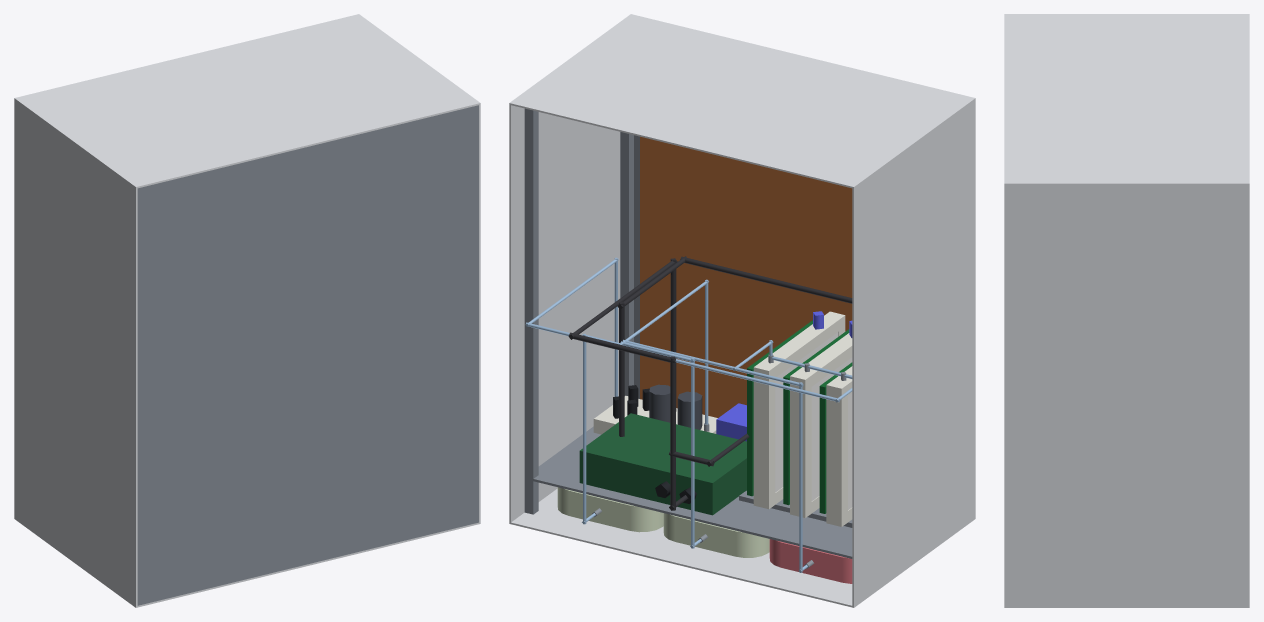
File: MOD-microalgae.glb
The picture shows the model from 3 angles, left to right: view 1: azimuth 30°, elevation 25°; view 2: azimuth 150°, elevation 25°; view 3: azimuth 270°, elevation 25°; orthographic projection.
Visible parts, largest first — view 1: housing__back_panel_bay_interface, housing__side_panel_L, housing__top_panel, housing__bottom_panel, housing__side_panel_R; view 2: housing__side_panel_L, housing__top_panel, thermal__cold_wall_to_the_bay_s_thermoelectric_block, housing__side_panel_R, electronics__controller_enclosure_boards_data_storage, housing__bottom_panel, housing__shelf_1, housing__corner_post_4, sample__photobioreactor_4_frame_and_fittings, sample__photobioreactor_3_frame_and_fittings, sample__photobioreactor_2_frame_and_fittings, housing__corner_post_3 (+21 smaller); view 3: housing__side_panel_R, housing__top_panel, housing__bottom_panel.
Part boxes in pixels (bbox=[...]): housing__back_panel_bay_interface: bbox=[137, 105, 478, 605]; housing__side_panel_L: bbox=[14, 100, 137, 605]; housing__top_panel: bbox=[14, 14, 480, 188]; housing__bottom_panel: bbox=[14, 517, 480, 607]; housing__side_panel_R: bbox=[479, 105, 480, 522]; housing__side_panel_L: bbox=[852, 100, 975, 605]; housing__top_panel: bbox=[509, 14, 975, 188]; thermal__cold_wall_to_the_bay_s_thermoelectric_block: bbox=[640, 136, 852, 417]; housing__side_panel_R: bbox=[509, 105, 620, 522]; electronics__controller_enclosure_boards_data_storage: bbox=[579, 413, 746, 515]; housing__bottom_panel: bbox=[509, 488, 975, 607]; housing__shelf_1: bbox=[524, 426, 852, 558]; housing__corner_post_4: bbox=[524, 108, 538, 514]; sample__photobioreactor_4_frame_and_fittings: bbox=[753, 311, 845, 509]; sample__photobioreactor_3_frame_and_fittings: bbox=[790, 333, 852, 517]; sample__photobioreactor_2_frame_and_fittings: bbox=[826, 366, 852, 526]; housing__corner_post_3: bbox=[620, 132, 633, 395]; housing__side_panel_R: bbox=[1004, 185, 1249, 606]; housing__top_panel: bbox=[1004, 14, 1249, 185]; housing__bottom_panel: bbox=[1004, 606, 1249, 607].
Bounding box in the file's own units: 0.313 × 0.3652 × 0.1913.
